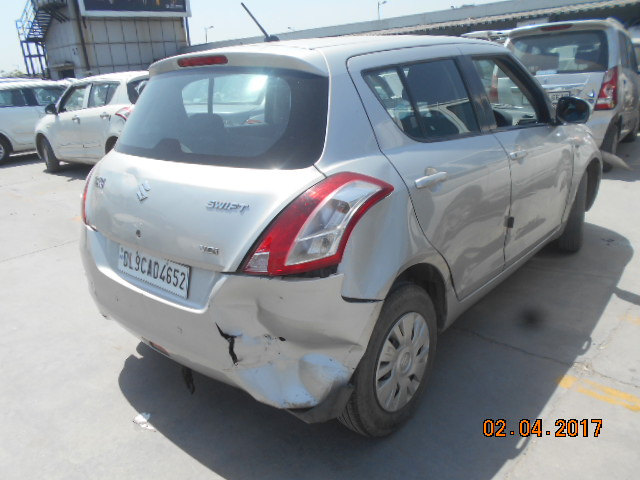Dent: (250, 292, 349, 389)
Tear: (212, 315, 248, 372)
